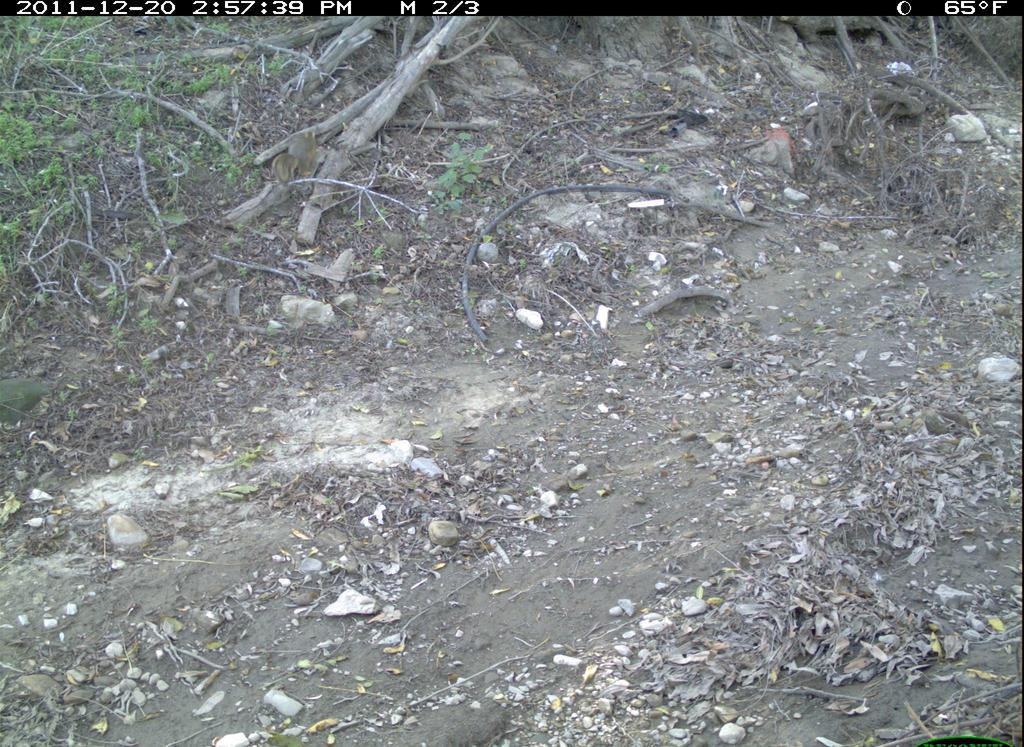squirrel: (267, 122, 331, 203)
